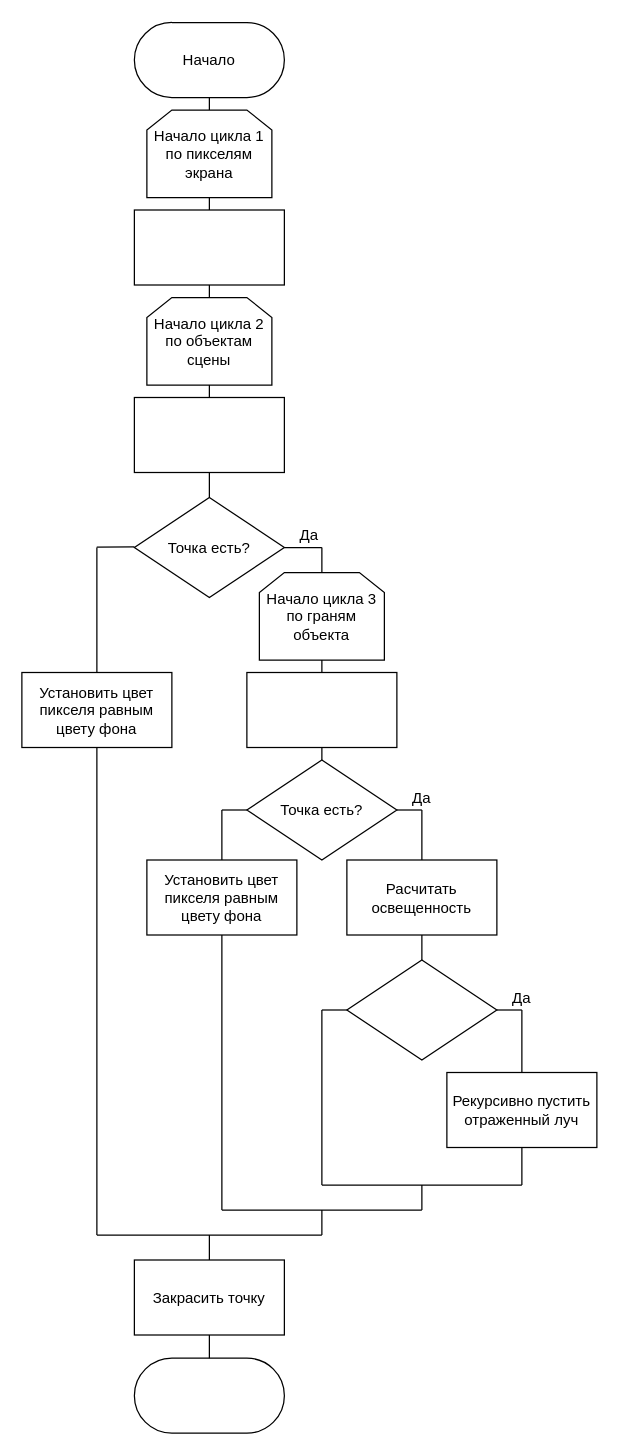
The diagram is 619 pixels wide and 1455 high, and some of its shapes have lost their labels. Here are the shapes that lost their labels. From the top down, the box of each, then its label:
(133, 209, 284, 285): Задать единичный вектор направления луча
(133, 396, 284, 472): Найти точки пересеч. со сферой, описывающей объект
(246, 671, 397, 748): Найти точку пересечения луча и грани
(346, 959, 497, 1060): Достигнута макс. глубина отраж.?
(133, 1357, 284, 1433): Конец
